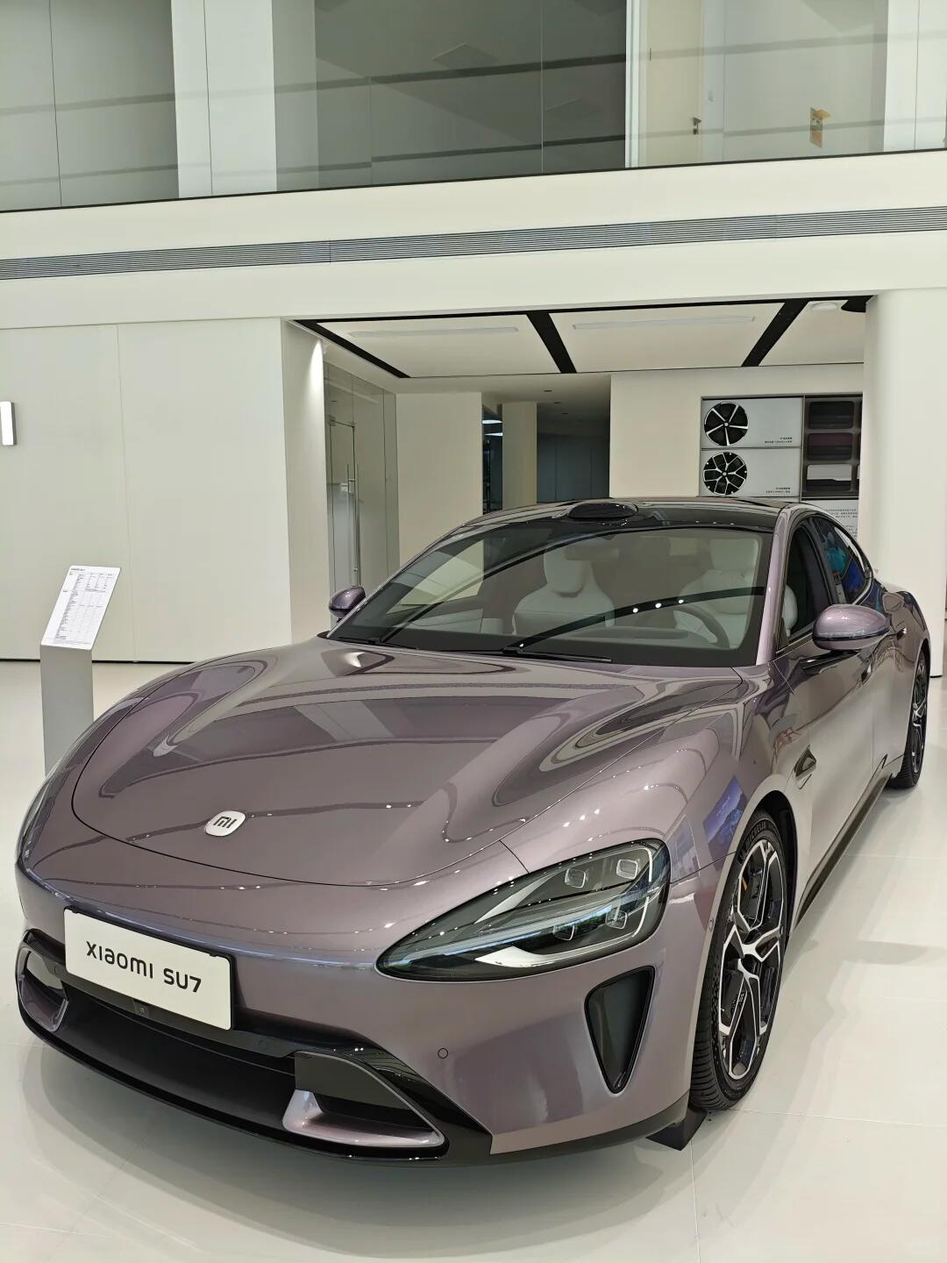su7: (18, 490, 919, 1160)
